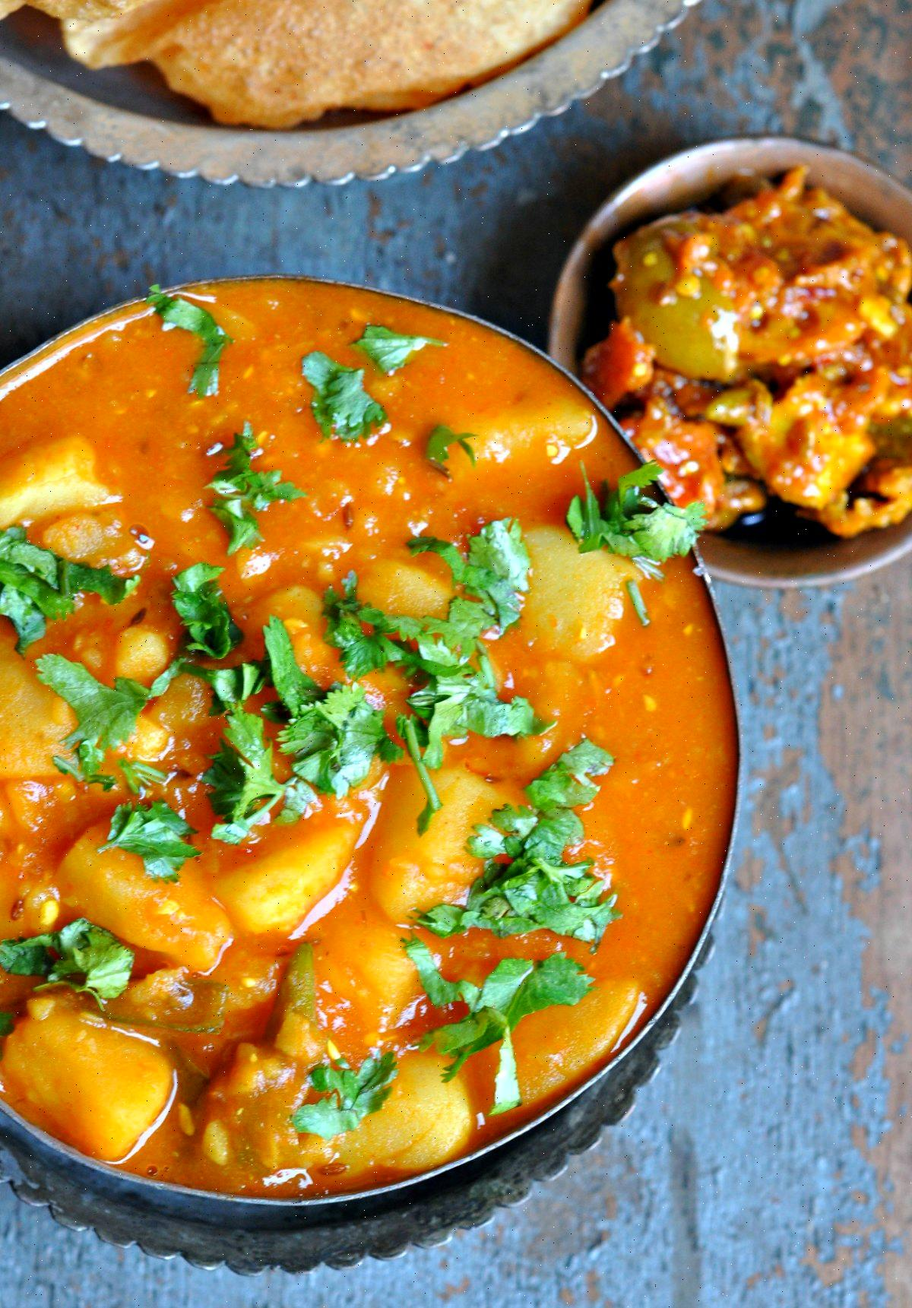aloo sabji: (24, 362, 606, 1202)
